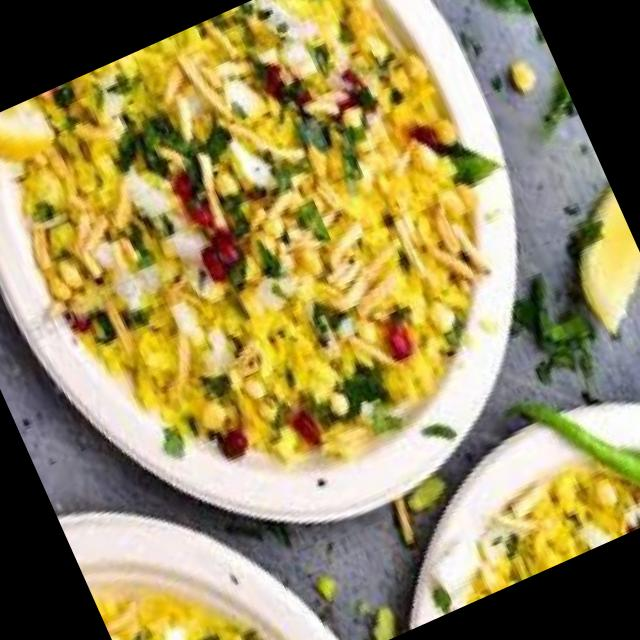poha: (0, 0, 562, 551), (437, 432, 640, 603), (88, 519, 306, 640)
